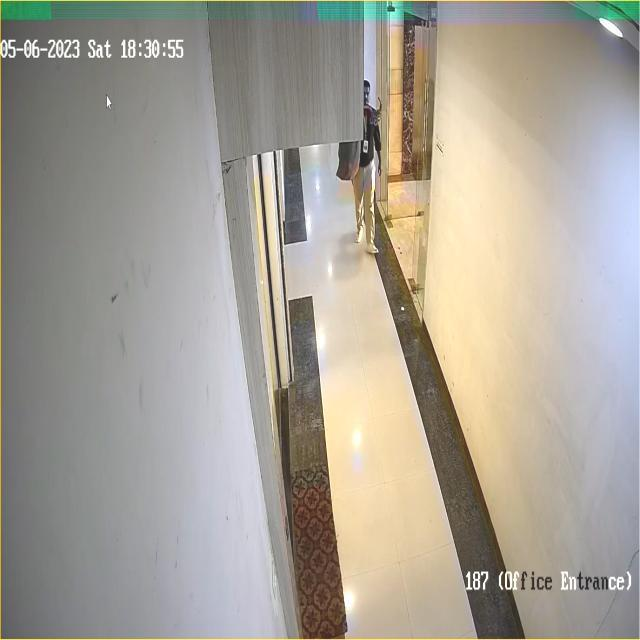gunny_bag: (334, 135, 363, 183)
